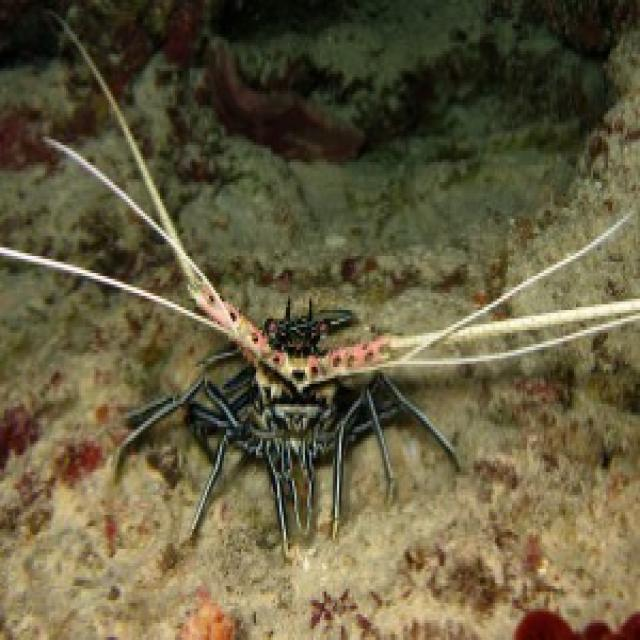lobsters: (23, 0, 640, 564)
